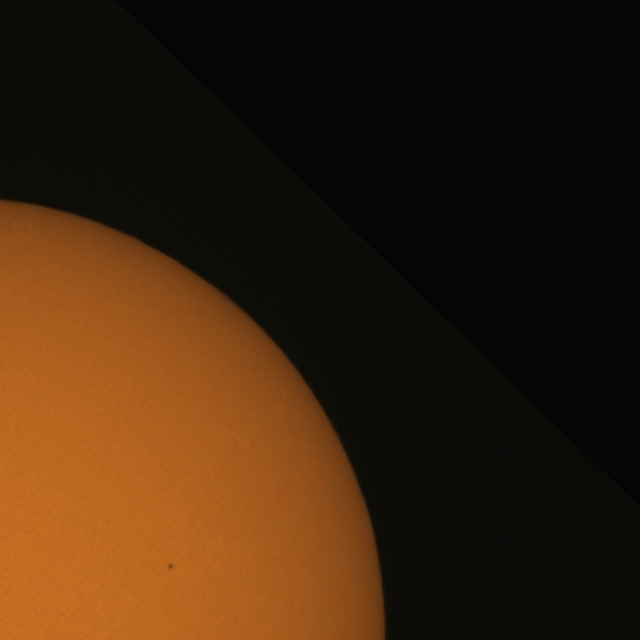sunspot: (166, 562, 176, 572)
